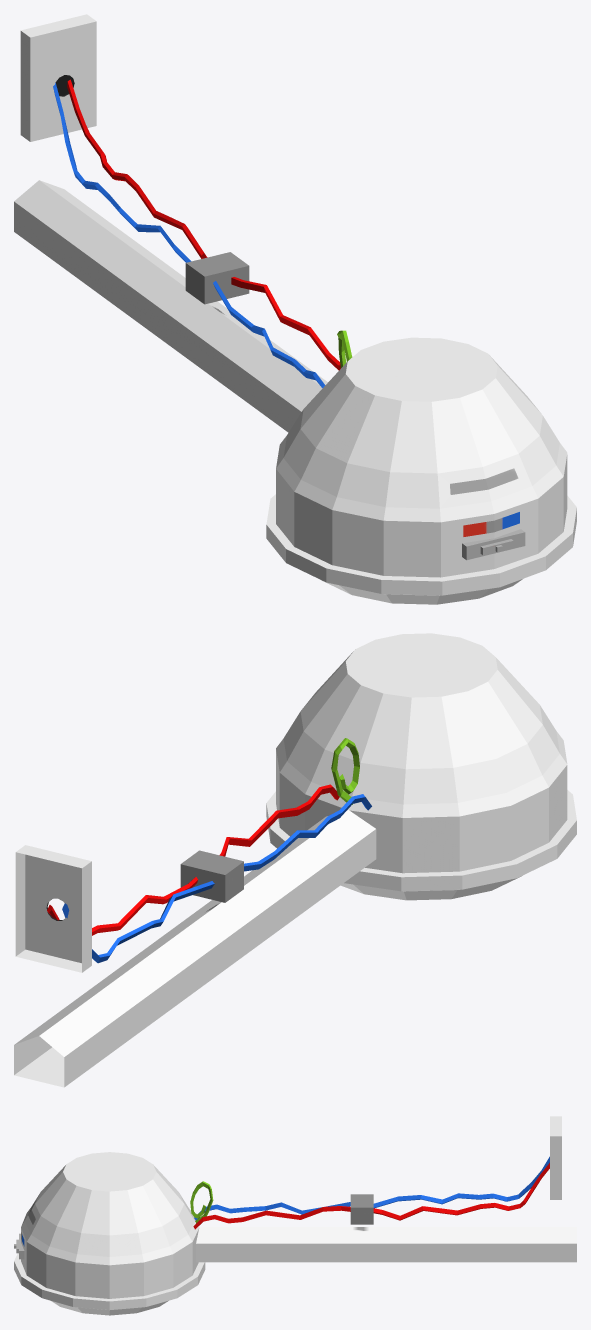
The model's file is Shower.fbx.
3 views of the same model, one above another, from view 1: azimuth 30°, elevation 25°; view 2: azimuth 150°, elevation 25°; view 3: azimuth 270°, elevation 25° (orthographic). The views are drawn at different scales.
Parts seen in each view (by area): view 1: Shower; view 2: Shower; view 3: Shower.
Boxes of the visible parts, x1,y1,x2,y2 form: Shower: (14,14,576,604); Shower: (14,633,576,1087); Shower: (14,1116,576,1315).
Size of the model in its own units: 27.71 by 25.62 by 81.55.
